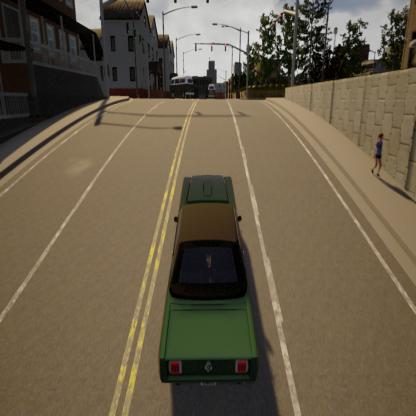Cars: (142, 144, 276, 416), (162, 61, 207, 104)
Pedestrian: (363, 105, 389, 197)
